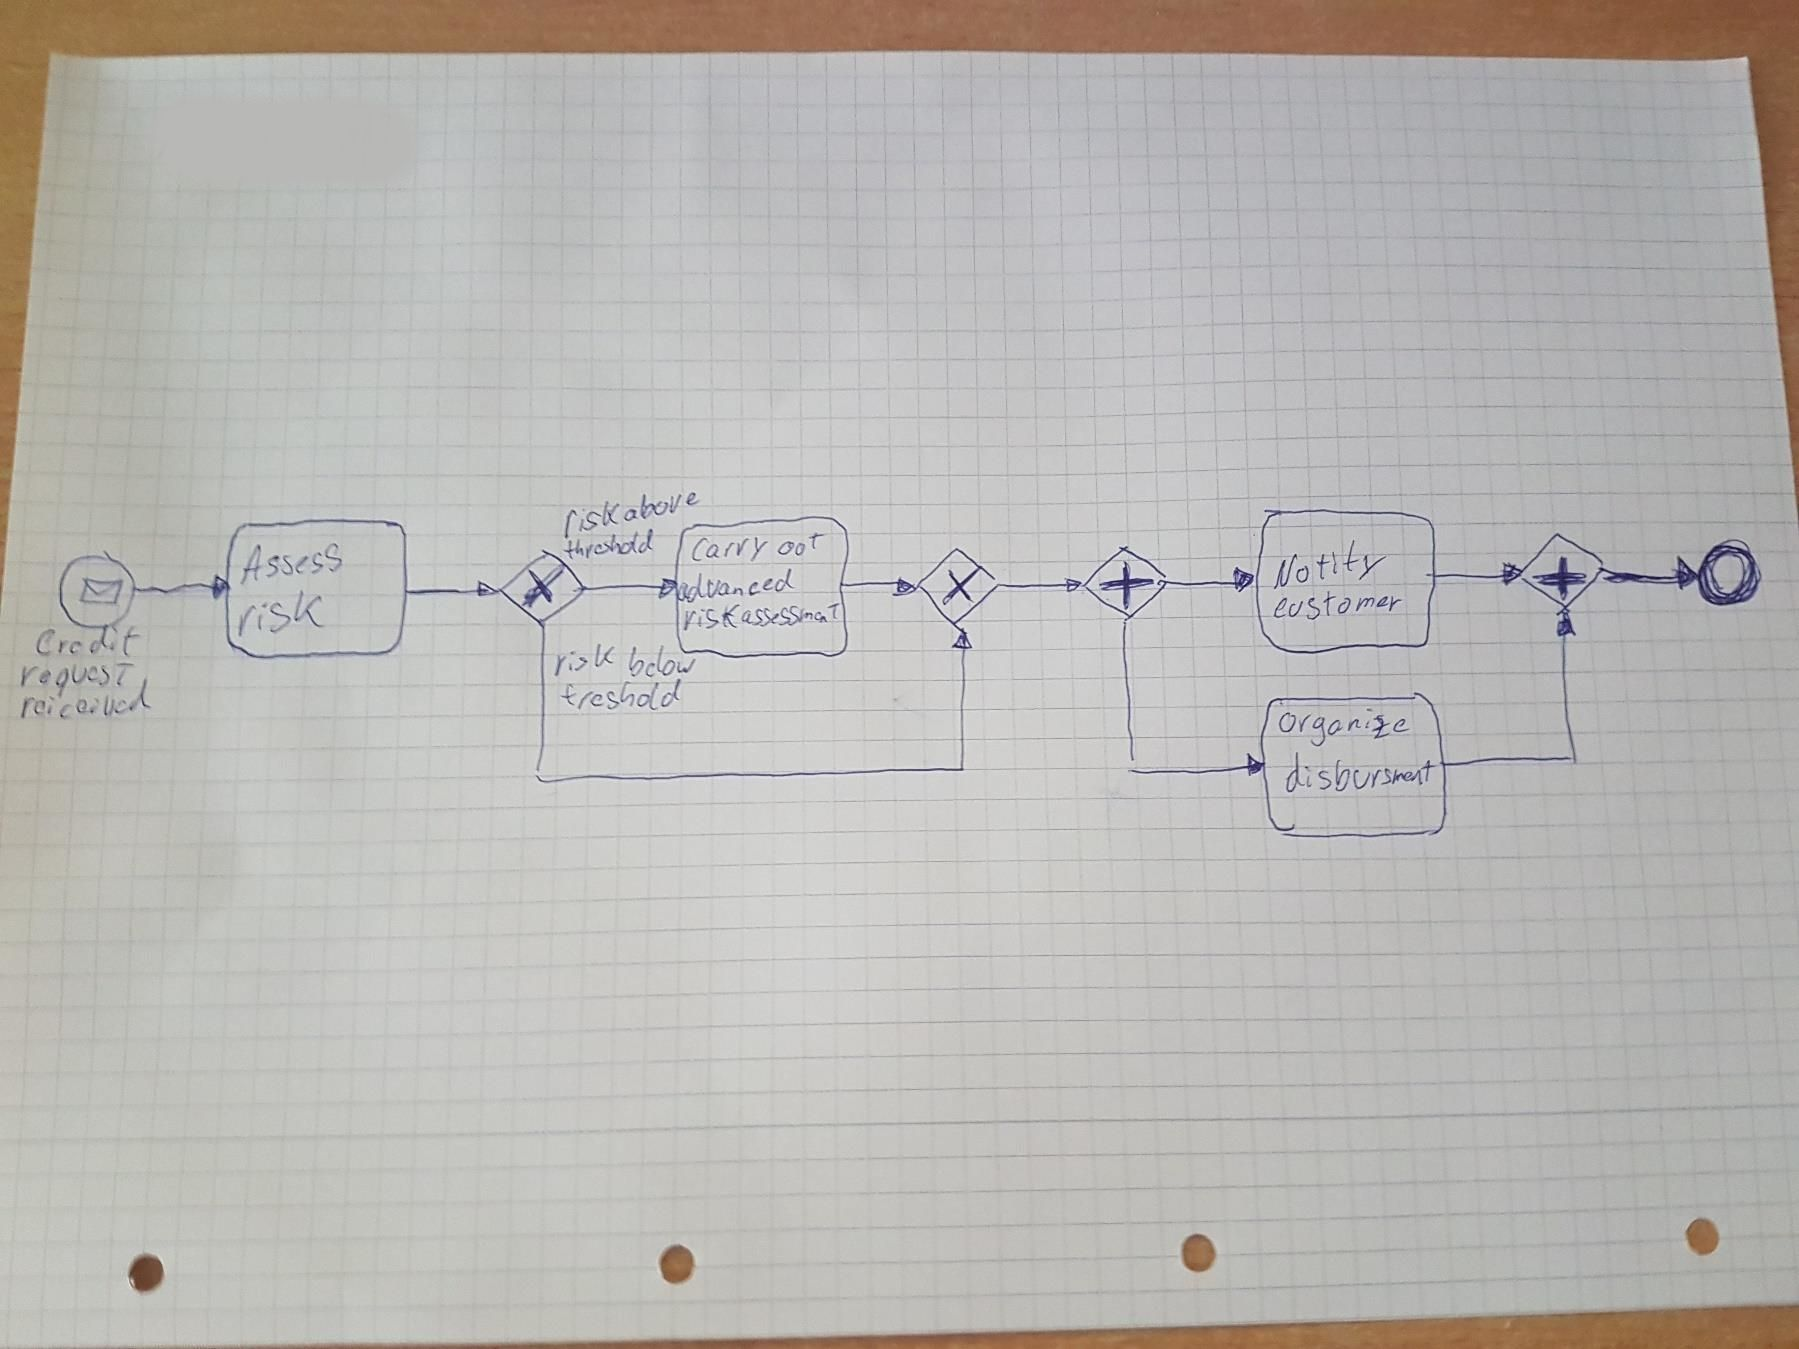Assess: (237, 538, 347, 589)
Carry: (687, 534, 771, 565)
Credit: (33, 621, 144, 660)
Notify: (1271, 537, 1392, 591)
above: (620, 485, 701, 529)
advanced: (674, 565, 799, 606)
assessment: (738, 599, 844, 632)
below: (625, 643, 698, 682)
customer: (1269, 588, 1407, 623)
disbursment: (1281, 748, 1435, 799)
organize: (1273, 706, 1412, 752)
out: (773, 529, 829, 560)
reiceived: (17, 674, 154, 726)
request: (17, 657, 142, 701)
risk: (229, 587, 330, 640), (550, 640, 620, 680), (560, 500, 620, 541), (681, 599, 745, 633)
threshold: (560, 526, 657, 563)
treshold: (560, 677, 686, 716)
